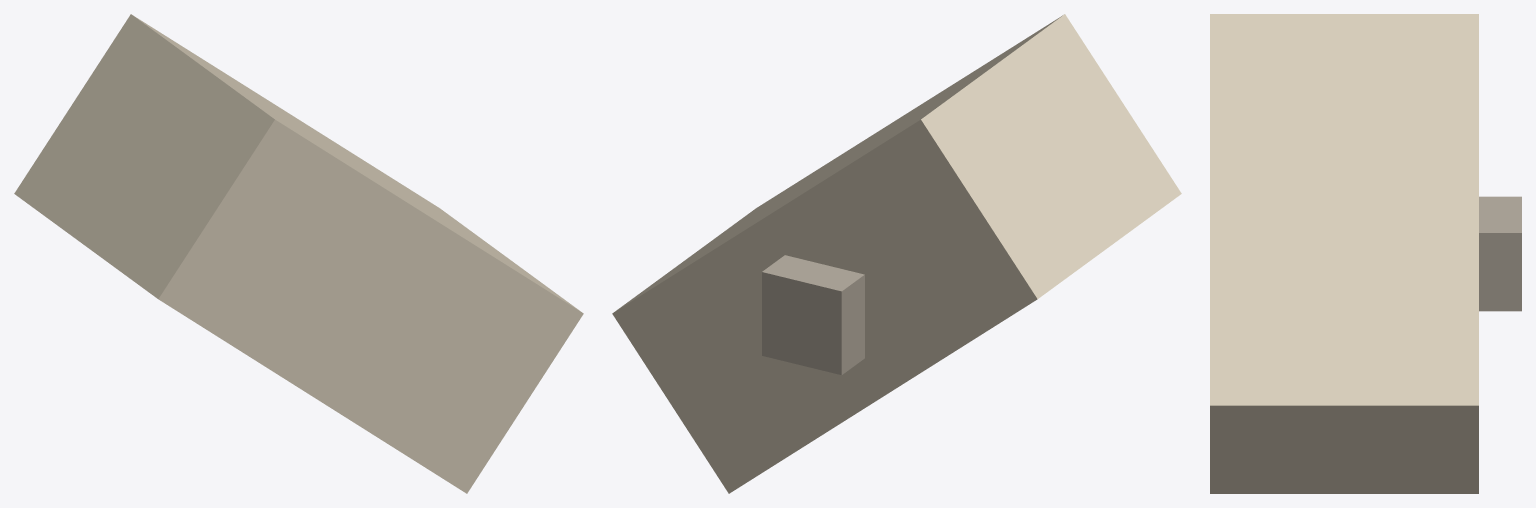
File: historic-palestine-07_02_3485_2968.glb
The picture shows the model from 3 angles, left to right: view 1: azimuth 30°, elevation 25°; view 2: azimuth 150°, elevation 25°; view 3: azimuth 270°, elevation 25°; orthographic projection. The views are drawn at different scales.
Visible parts, largest first — view 1: Building_; view 2: Building_, Roof access hut; view 3: Building_, Roof access hut.
Boxes of the visible parts, left/top/right/bottom form: Building_: left=14, top=14, right=583, bottom=493; Building_: left=612, top=14, right=1181, bottom=493; Roof access hut: left=762, top=255, right=864, bottom=375; Building_: left=1210, top=14, right=1478, bottom=493; Roof access hut: left=1479, top=196, right=1521, bottom=311.
Size of the model in its own units: 12.78 by 12.09 by 8.7.
